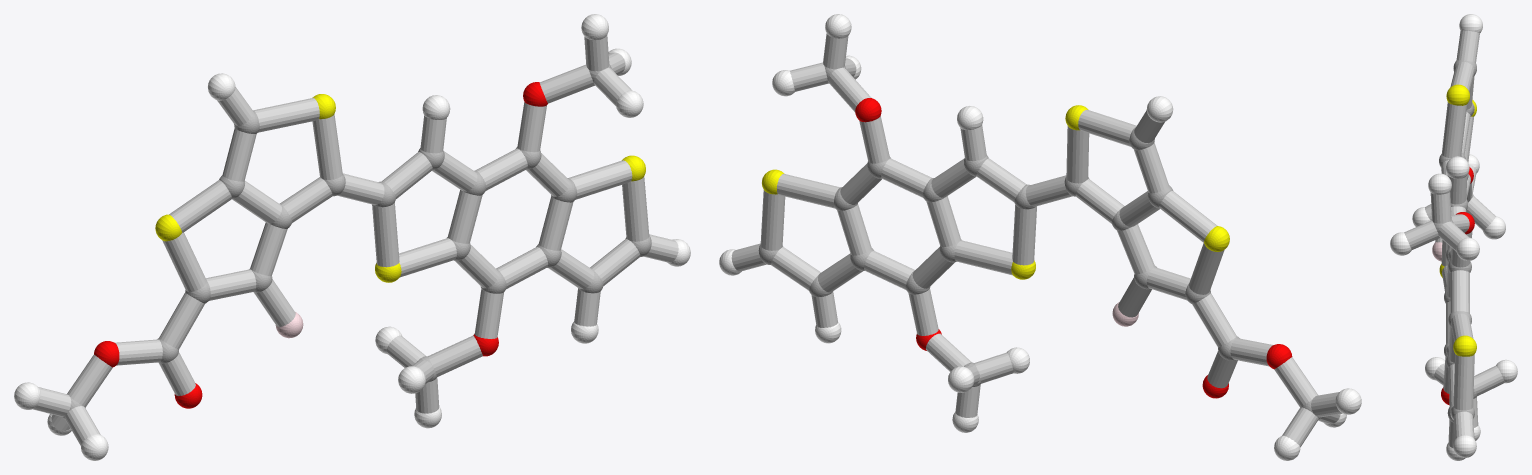
Rendered from color.glb.
3 renders of one model, left to right at view 1: azimuth 30°, elevation 25°; view 2: azimuth 150°, elevation 25°; view 3: azimuth 270°, elevation 25°, orthographic. The views are drawn at different scales.
Parts seen in each view (by area): view 1: grp15205, grp8689, grp1, grp7241, grp13395; view 2: grp15205, grp8689, grp1, grp7241, grp13395; view 3: grp15205, grp8689, grp1, grp7241, grp13395, grp14843.
Part boxes in pixels (x1,y1,x2,y2): grp15205: (33,35,678,445); grp8689: (14,14,690,460); grp1: (62,64,651,419); grp7241: (155,94,645,282); grp13395: (94,82,547,408); grp15205: (731,33,1342,446); grp8689: (719,14,1361,460); grp1: (758,66,1321,419); grp7241: (762,105,1229,279); grp13395: (855,98,1292,398); grp15205: (1404,30,1504,447); grp8689: (1390,14,1517,460); grp1: (1433,60,1476,422); grp7241: (1439,84,1476,356); grp13395: (1441,167,1474,405); grp14843: (1432,242,1442,261).
Bounding box in the file's own units: 16.73 × 9.56 × 3.24.
